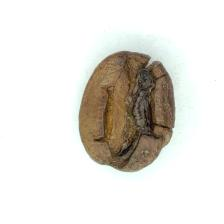NG: (99, 59, 161, 162)
